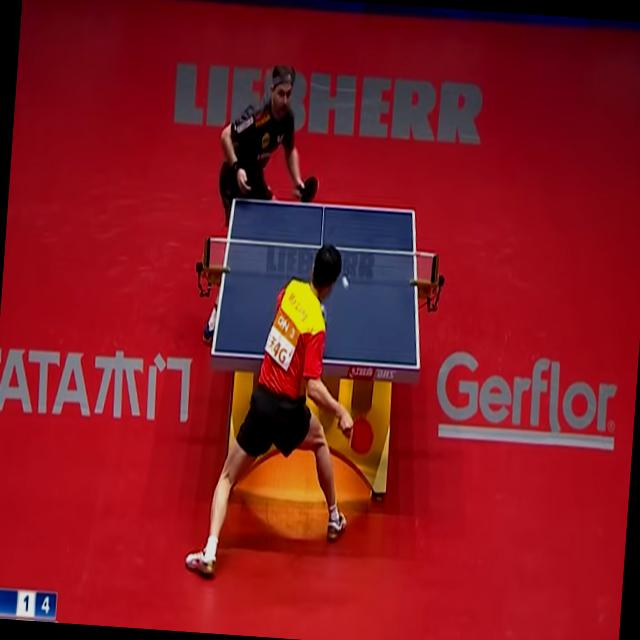TT Net: (204, 237, 439, 290)
TT Racket: (346, 415, 378, 460), (297, 171, 321, 207)
TT Table: (213, 195, 430, 367)
